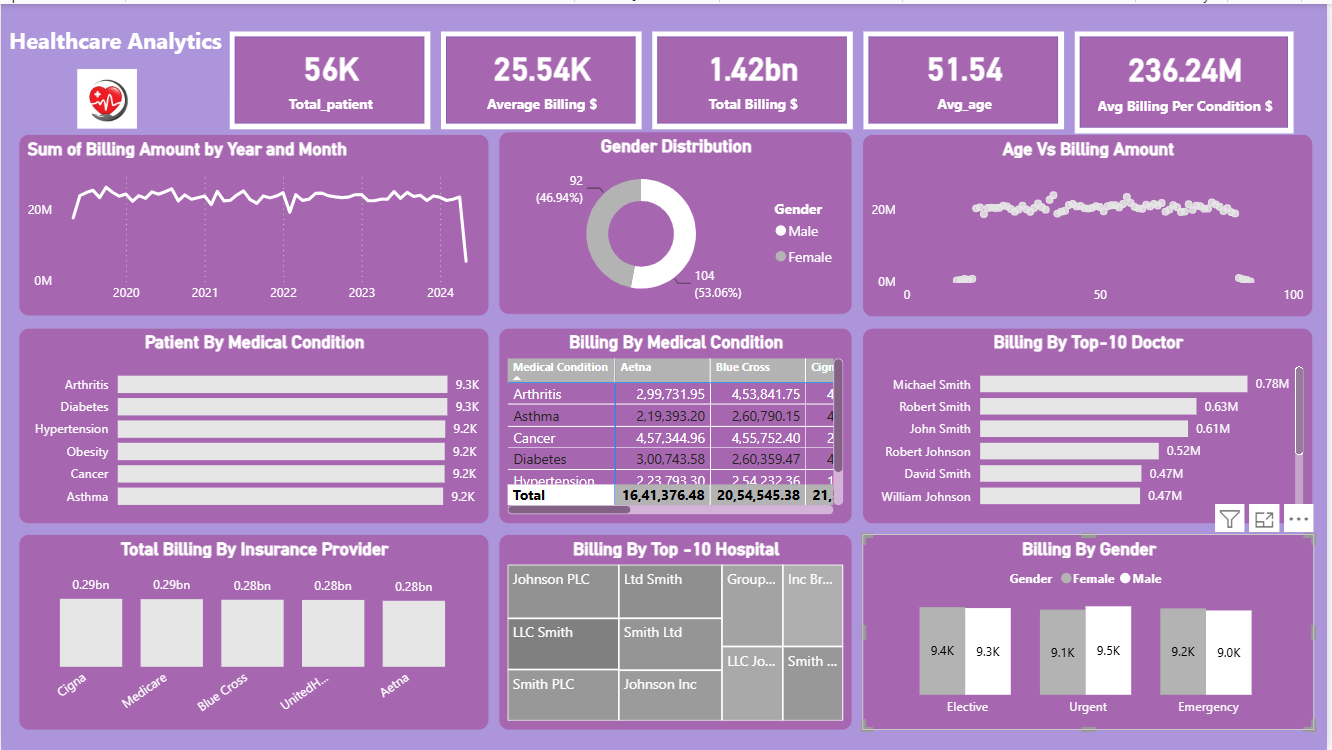

This screenshot's page, from the dashboard's own definition file:
{"tool":"powerbi","page":{"name":"Page 1","canvas":[1280,720],"ordinal":0},"visuals":[{"type":"cardVisual","fields":{"Data":["healthcare_dataset.Avg_billing_per_condition"]},"box":[1036,26.1,211.3,98.8],"z":1000},{"type":"cardVisual","fields":{"Data":["healthcare_dataset.Total_patient"]},"box":[220.4,26.1,193.5,94.7],"z":2000},{"type":"cardVisual","fields":{"Data":["healthcare_dataset.Avg_billing"]},"box":[424.3,26.1,193.5,94.7],"z":3000},{"type":"cardVisual","fields":{"Data":["healthcare_dataset.total_billing"]},"box":[628.2,26.1,193.5,94.7],"z":4000},{"type":"cardVisual","fields":{"Data":["healthcare_dataset.Avg_age"]},"box":[832.1,26.1,193.5,94.7],"z":5000},{"type":"lineChart","fields":{"Y":["Sum(healthcare_dataset.Billing Amount)"],"Category":["healthcare_dataset.Date of Admission.Variation.Date Hierarchy.Year","healthcare_dataset.Date of Admission.Variation.Date Hierarchy.Month"]},"box":[16.5,124.9,454.2,175.6],"z":6000},{"type":"clusteredBarChart","title":"Patient By Medical Condition","fields":{"Category":["healthcare_dataset.Medical Condition"],"Y":["CountNonNull(healthcare_dataset.Name)"]},"box":[16.5,312.9,454.2,189.4],"z":7000},{"type":"clusteredColumnChart","title":"Total Billing By Insurance Provider","fields":{"Category":["healthcare_dataset.Insurance Provider"],"Y":["Sum(healthcare_dataset.Billing Amount)"]},"box":[16.5,511.8,454.2,189.4],"z":8000},{"type":"clusteredBarChart","title":"Total Billing By Doctor- Top-10","fields":{"Category":["healthcare_dataset.Doctor"],"Y":["Sum(healthcare_dataset.Billing Amount)"]},"box":[831.6,312.9,435,189.4],"z":9000},{"type":"clusteredColumnChart","title":"Total Billing By Insurance Provider","fields":{"Category":["healthcare_dataset.Admission Type"],"Y":["CountNonNull(healthcare_dataset.Name)"],"Series":["healthcare_dataset.Gender"]},"box":[831.6,511.8,436.4,189.4],"z":10000},{"type":"donutChart","title":"Gender Distribution","fields":{"Category":["healthcare_dataset.Gender"],"Y":["CountNonNull(healthcare_dataset.Name)"]},"box":[480.3,123.5,341.7,177],"z":11000},{"type":"scatterChart","title":"Age Vs Billing Amount","fields":{"X":["healthcare_dataset.Age"],"Y":["Sum(healthcare_dataset.Billing Amount)"]},"box":[831.6,124.9,435,177],"z":12000},{"type":"treemap","title":"Biling By Hospital Top -10","fields":{"Values":["Sum(healthcare_dataset.Billing Amount)"],"Group":["healthcare_dataset.Hospital"]},"box":[480.3,511.8,341.7,189.4],"z":13000},{"type":"pivotTable","title":"Biling By Hospital Top -10","fields":{"Rows":["healthcare_dataset.Medical Condition"],"Columns":["healthcare_dataset.Insurance Provider"],"Values":["Sum(healthcare_dataset.Billing Amount)"]},"box":[480.3,312.9,341.7,189.4],"z":14000},{"type":"image","box":[0,57.6,204.5,67.2],"z":14001},{"type":"textbox","box":[0,15.1,220.9,59],"z":14002}]}

Visuals, with their boxes in screenshot pixels (x1, y1, x2, y2), scaled from the page's 1280x720 canvas onto the 1332x750 screenshot:
cardVisual - healthcare_dataset.Avg_billing_per_condition: 1078:27:1298:130
cardVisual - healthcare_dataset.Total_patient: 229:27:431:126
cardVisual - healthcare_dataset.Avg_billing: 442:27:643:126
cardVisual - healthcare_dataset.total_billing: 654:27:855:126
cardVisual - healthcare_dataset.Avg_age: 866:27:1067:126
lineChart - Sum(healthcare_dataset.Billing Amount) x healthcare_dataset.Date of Admission.Variation.Date Hierarchy.Year: 17:130:490:313
"Patient By Medical Condition" clusteredBarChart: 17:326:490:523
"Total Billing By Insurance Provider" clusteredColumnChart: 17:533:490:730
"Total Billing By Doctor- Top-10" clusteredBarChart: 865:326:1318:523
"Total Billing By Insurance Provider" clusteredColumnChart: 865:533:1320:730
"Gender Distribution" donutChart: 500:129:855:313
"Age Vs Billing Amount" scatterChart: 865:130:1318:314
"Biling By Hospital Top -10" treemap: 500:533:855:730
"Biling By Hospital Top -10" pivotTable: 500:326:855:523
image: 0:60:213:130
textbox: 0:16:230:77
